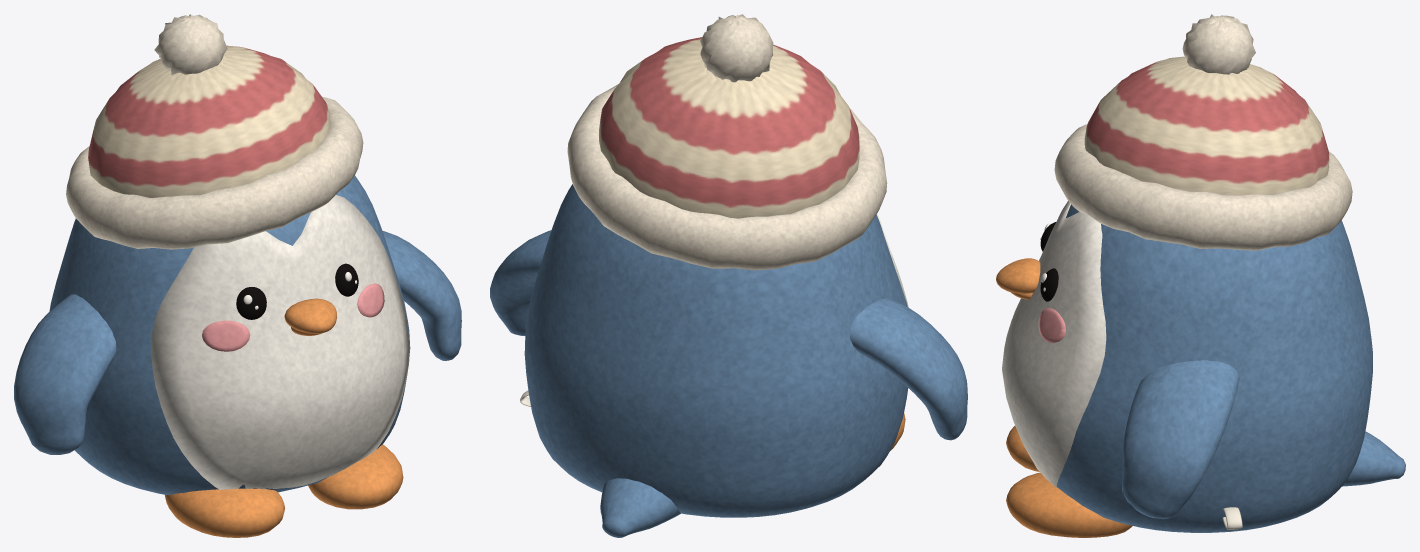
File: plush-penguin.glb
3 views of the same model, side by side, from view 1: azimuth 30°, elevation 25°; view 2: azimuth 150°, elevation 25°; view 3: azimuth 270°, elevation 25° (orthographic). The views are drawn at different scales.
Visible parts, largest first — view 1: Penguin_WhiteApron, Penguin_BeanieDome, Penguin_Body, Penguin_BeanieCuff, Penguin_Flipper_R, Penguin_Flipper_L, Penguin_Foot_R, Penguin_Foot_L, Penguin_BeaniePomPom, Penguin_BeakUpper, Penguin_Blush_R, Penguin_R_Eye (+2 smaller); view 2: Penguin_Body, Penguin_BeanieDome, Penguin_BeanieCuff, Penguin_Flipper_R, Penguin_BeaniePomPom, Penguin_Flipper_L, Penguin_Tail; view 3: Penguin_Body, Penguin_BeanieDome, Penguin_WhiteApron, Penguin_BeanieCuff, Penguin_Flipper_L, Penguin_Foot_L, Penguin_BeaniePomPom, Penguin_Tail, Penguin_BeakUpper, Penguin_Blush_L, Penguin_Foot_R.
Boxes of the visible parts, left/top/right/bottom form: Penguin_WhiteApron: left=151, top=195, right=409, bottom=489; Penguin_BeanieDome: left=88, top=45, right=330, bottom=197; Penguin_Body: left=49, top=175, right=410, bottom=495; Penguin_BeanieCuff: left=66, top=96, right=363, bottom=249; Penguin_Flipper_R: left=14, top=294, right=116, bottom=454; Penguin_Flipper_L: left=382, top=231, right=461, bottom=360; Penguin_Foot_R: left=165, top=488, right=284, bottom=537; Penguin_Foot_L: left=308, top=444, right=403, bottom=509; Penguin_BeaniePomPom: left=154, top=14, right=227, bottom=74; Penguin_BeakUpper: left=284, top=298, right=337, bottom=333; Penguin_Blush_R: left=202, top=320, right=250, bottom=351; Penguin_R_Eye: left=236, top=287, right=266, bottom=319; Penguin_Body: left=524, top=184, right=908, bottom=517; Penguin_BeanieDome: left=599, top=37, right=859, bottom=218; Penguin_BeanieCuff: left=567, top=84, right=887, bottom=270; Penguin_Flipper_R: left=850, top=298, right=967, bottom=440; Penguin_BeaniePomPom: left=700, top=14, right=773, bottom=82; Penguin_Flipper_L: left=490, top=230, right=551, bottom=335; Penguin_Tail: left=600, top=478, right=680, bottom=537; Penguin_Body: left=1057, top=204, right=1372, bottom=532; Penguin_BeanieDome: left=1084, top=56, right=1329, bottom=195; Penguin_WhiteApron: left=1002, top=201, right=1106, bottom=487; Penguin_BeanieCuff: left=1054, top=124, right=1352, bottom=250; Penguin_Flipper_L: left=1122, top=360, right=1239, bottom=519; Penguin_Foot_L: left=1006, top=472, right=1132, bottom=537; Penguin_BeaniePomPom: left=1182, top=14, right=1255, bottom=74; Penguin_Tail: left=1342, top=431, right=1405, bottom=486; Penguin_BeakUpper: left=996, top=258, right=1040, bottom=293; Penguin_Blush_L: left=1038, top=308, right=1065, bottom=342; Penguin_Foot_R: left=1006, top=426, right=1039, bottom=471.
Bounding box in the file's own units: 0.4787 × 0.4662 × 0.3778.
Materials: 9 (6 with a texture image).
